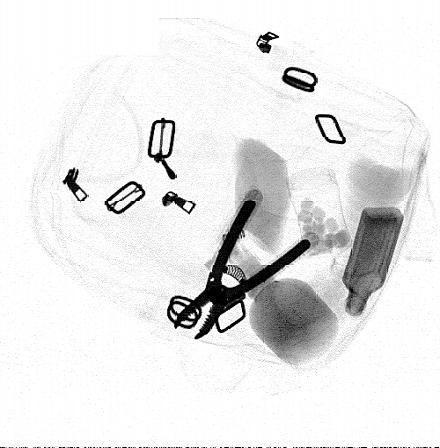Pliers: (173, 197, 313, 340)
